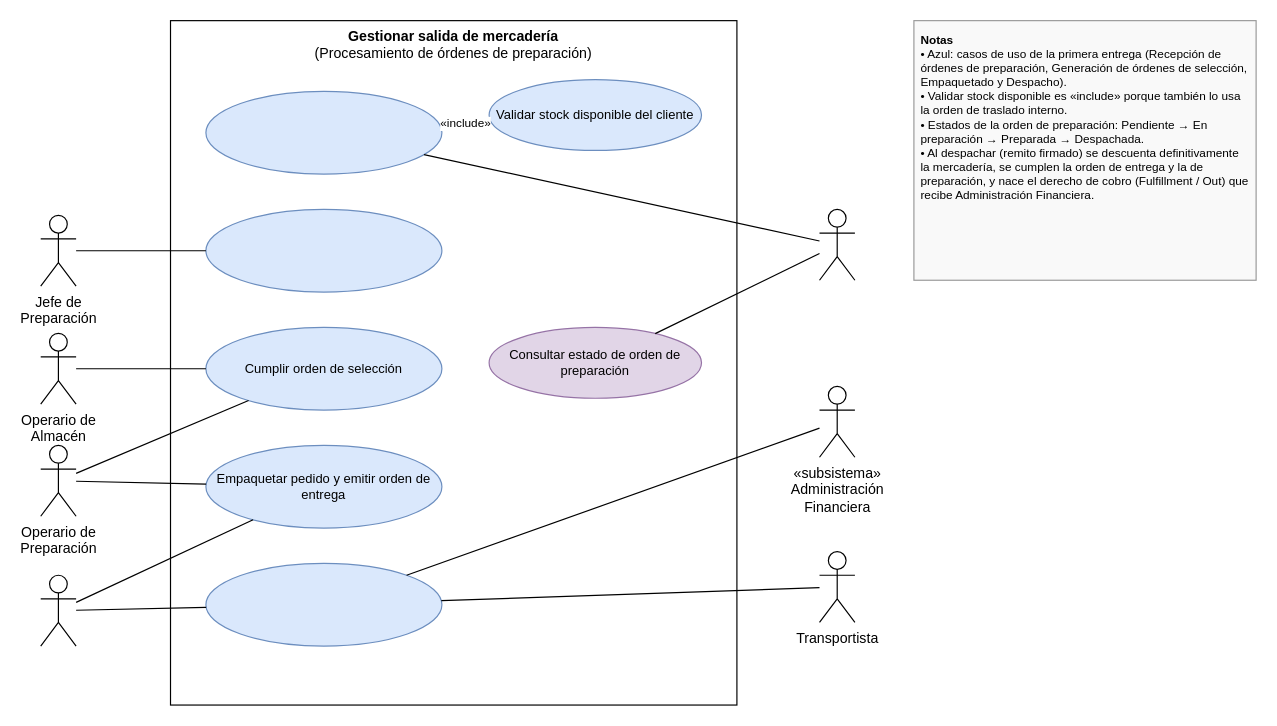
The diagram is 1277 pixels wide and 726 high, and some of its shapes have lost their labels. Each missing label, with the centre of its shape:
"Cliente" goes at pixel 836 244.
"Despachar mercadería al transportista" goes at pixel 323 604.
"Generar orden de selección" goes at pixel 323 250.
"Operario de Despacho" goes at pixel 58 610.
"Registrar orden de preparación" goes at pixel 323 132.
